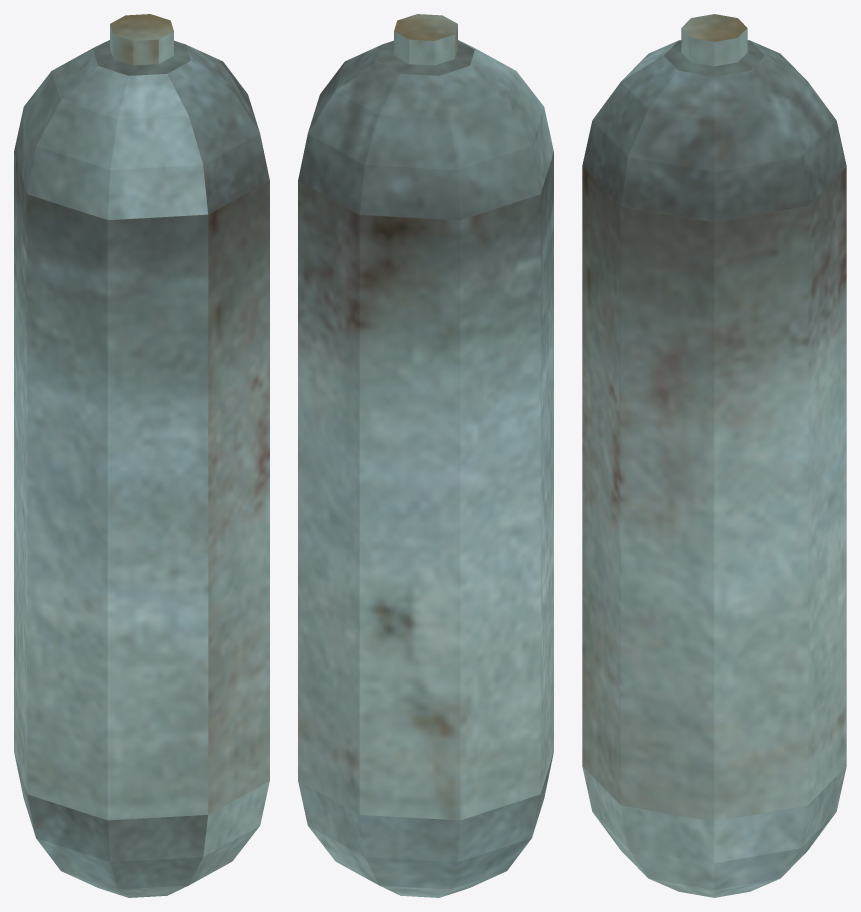
File: OxygenTank.glb
3 views of the same model, side by side, from view 1: azimuth 30°, elevation 25°; view 2: azimuth 150°, elevation 25°; view 3: azimuth 270°, elevation 25° (orthographic).
Visible parts, largest first — view 1: Cylinder; view 2: Cylinder; view 3: Cylinder.
Part boxes in pixels (x1=…): Cylinder: x1=14, y1=14, x2=269, y2=897; Cylinder: x1=298, y1=14, x2=553, y2=897; Cylinder: x1=582, y1=14, x2=846, y2=897.
Size of the model in its own units: 0.8 by 2.86 by 0.8.
1 material, 1 textured.
